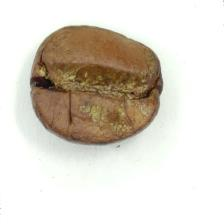NG: (46, 41, 155, 132)
